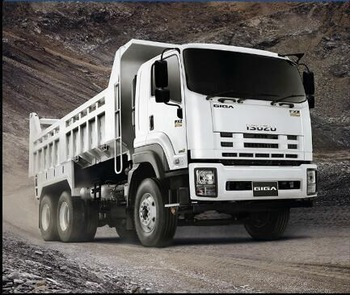truck: (20, 37, 320, 241)
